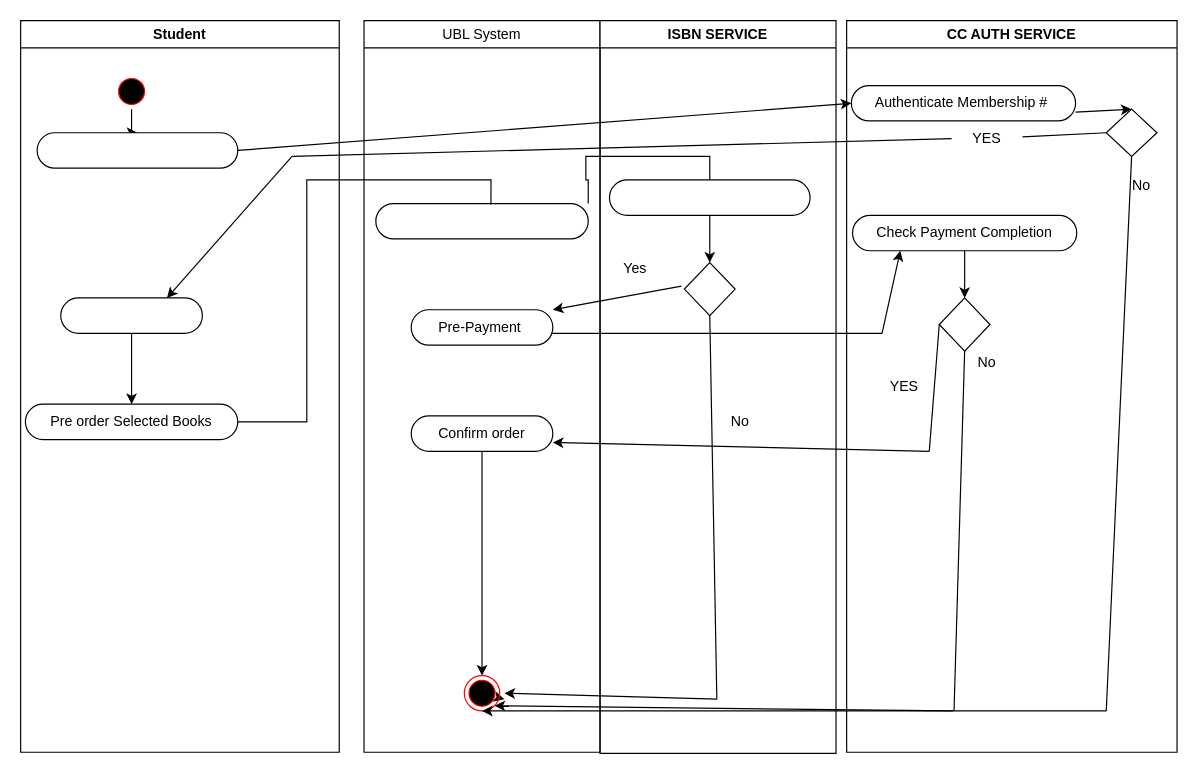
Image size: 1198x774. Some labels were removed from this diagram. The centre of each missing label's shape, as x and y in pixels:
"Check Book Availability" goes at (x=709, y=197).
"Provide membership no." goes at (x=137, y=150).
"receive pre order request" goes at (x=481, y=220).
"Search Books" goes at (x=131, y=315).
